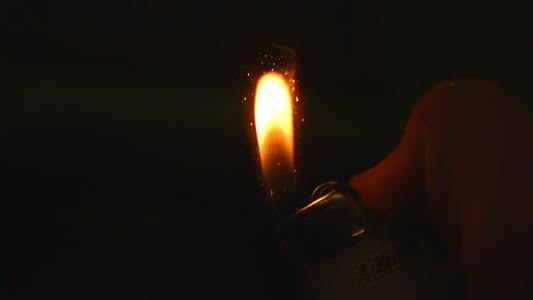fire: (238, 60, 312, 208)
